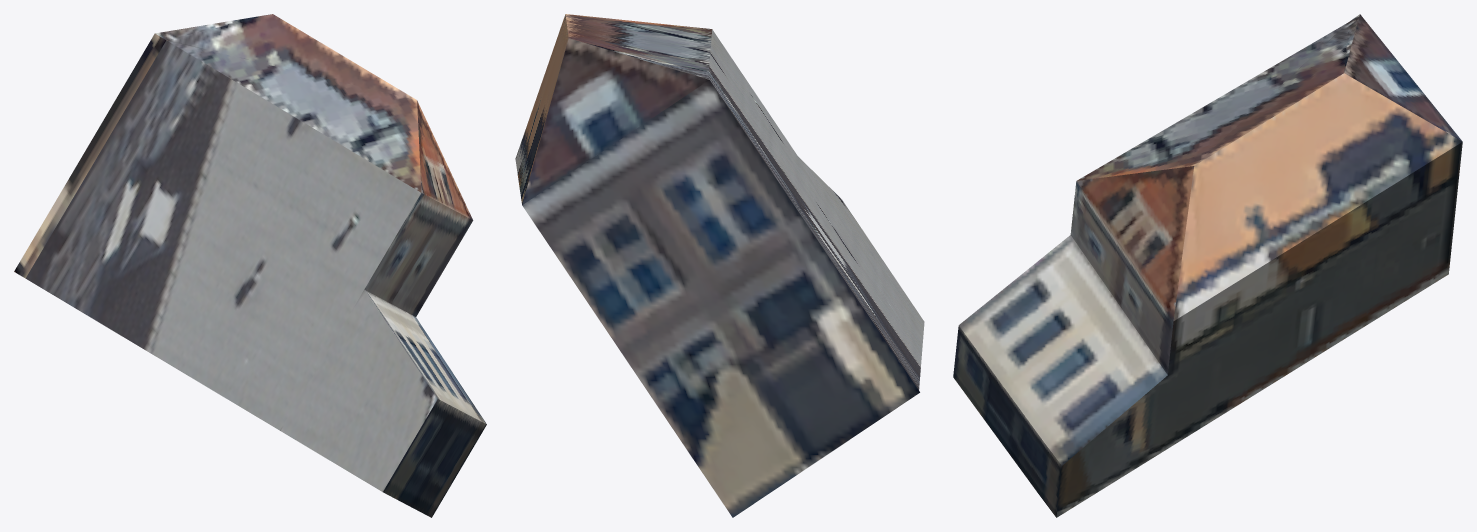
3 views of the same model, side by side, from view 1: azimuth 30°, elevation 25°; view 2: azimuth 150°, elevation 25°; view 3: azimuth 270°, elevation 25° (orthographic). The views are drawn at different scales.
Visible parts, largest first — view 1: BAG_0599100000650093 (×4); view 2: BAG_0599100000650093 (×3); view 3: BAG_0599100000650093 (×4).
Part boxes in pixels (x1,y1,x2,y2): BAG_0599100000650093 (×4): [14, 14, 486, 517]; BAG_0599100000650093 (×3): [515, 14, 924, 517]; BAG_0599100000650093 (×4): [953, 14, 1462, 517].
Bounding box in the file's own units: 12.85 × 13.39 × 14.21.
4 materials, 4 textured.
